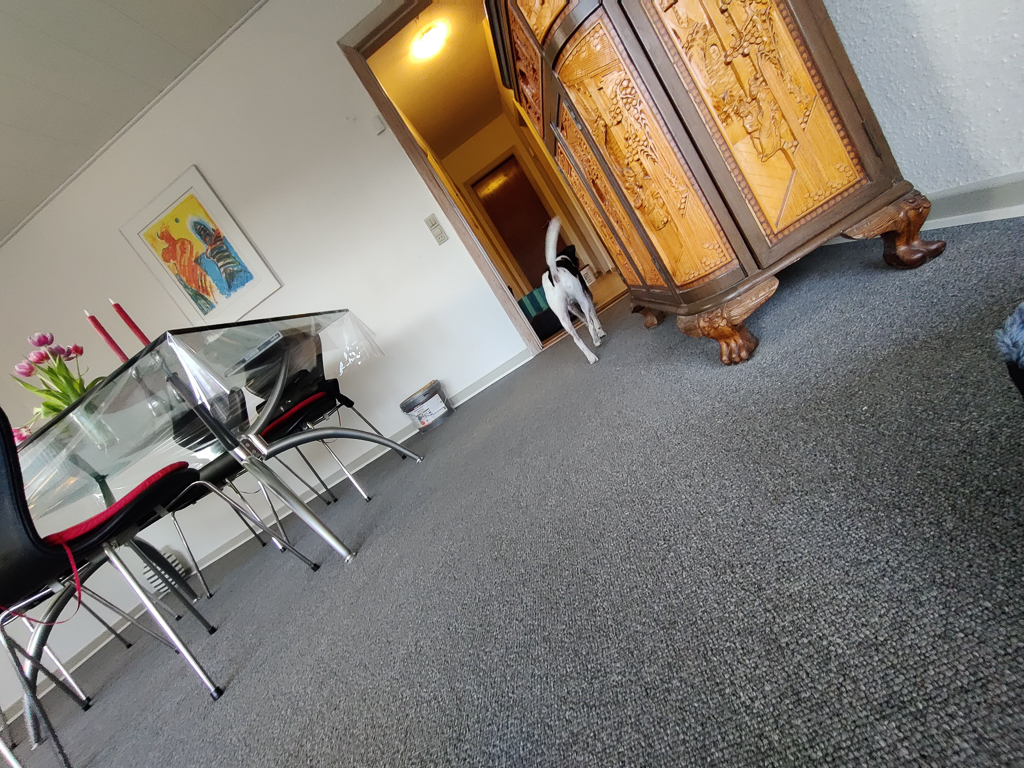Dog: (523, 210, 618, 371)
